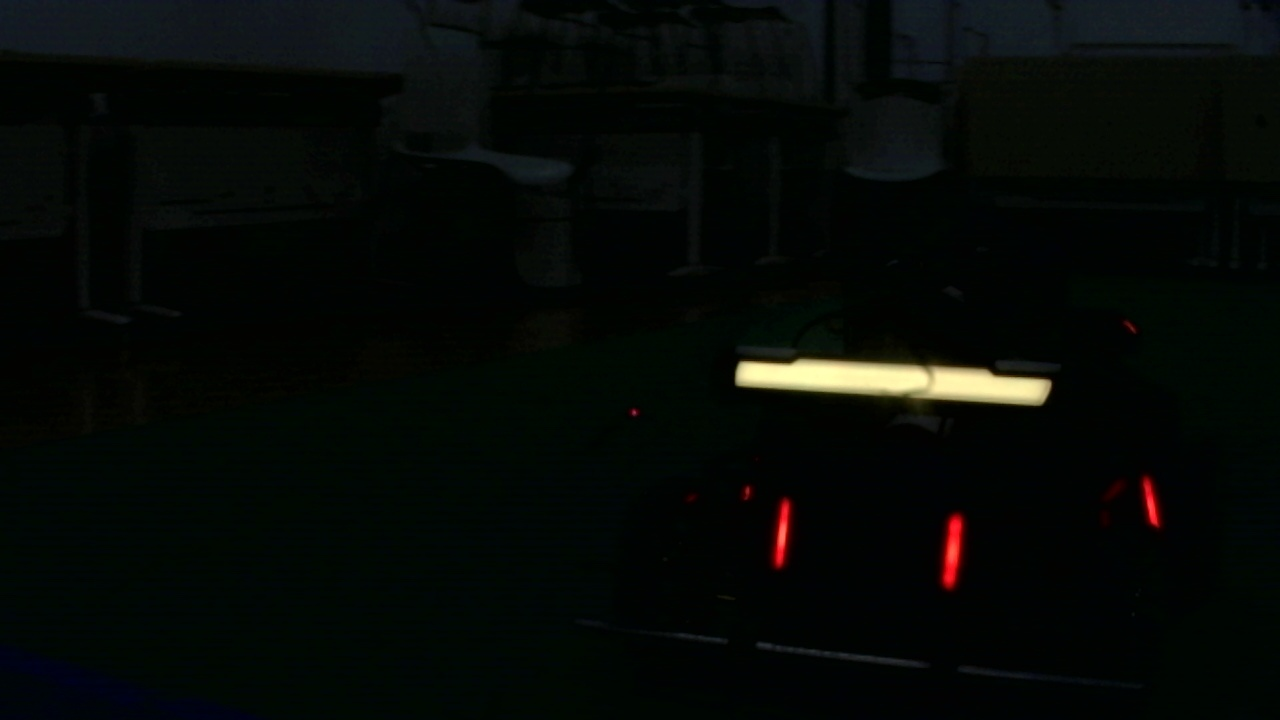lamp: (941, 509, 965, 591), (772, 495, 792, 568), (1137, 473, 1161, 531)
notpair1: (942, 474, 1161, 578)
pair1: (771, 503, 966, 586)
